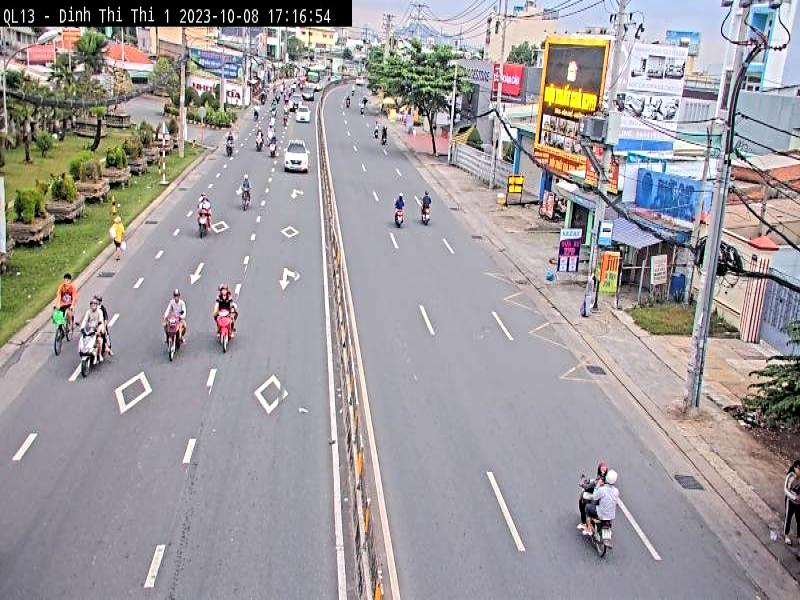motorcycle: (574, 477, 614, 560), (76, 318, 112, 380), (161, 306, 187, 357), (215, 306, 235, 350), (194, 206, 214, 240)
